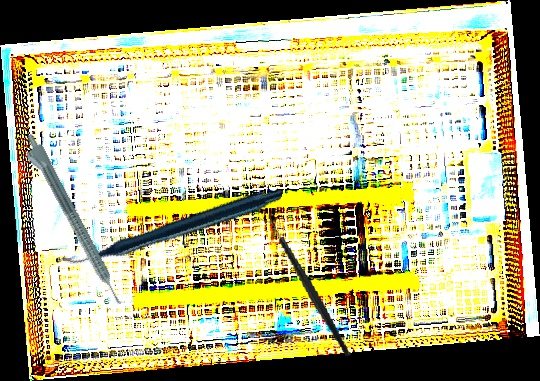Chopper: (257, 205, 353, 368)
Handpiece: (62, 131, 284, 320), (16, 131, 126, 312)
